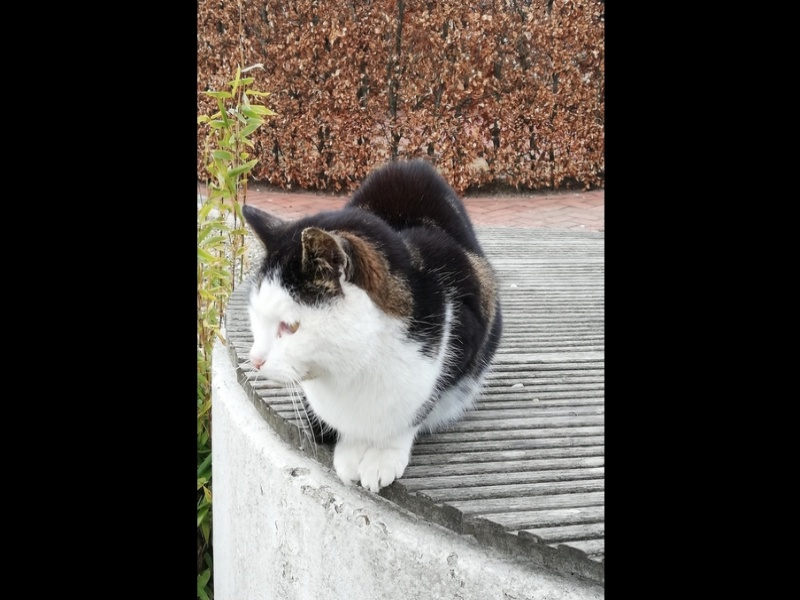cat: (234, 147, 510, 501)
